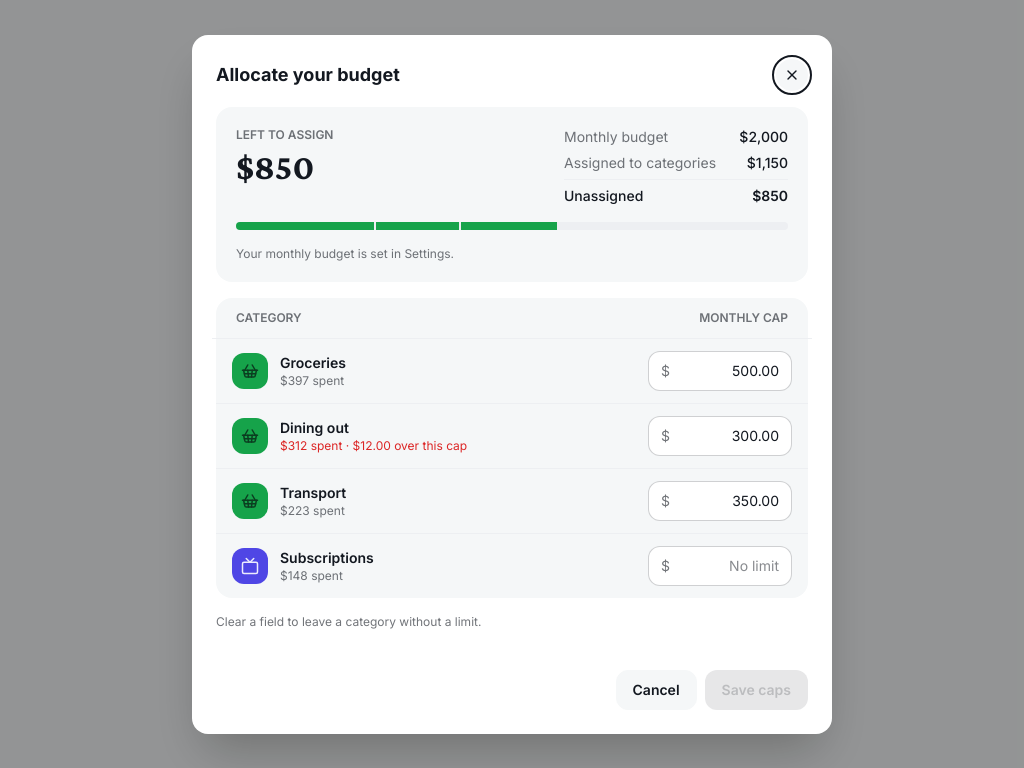
validation › clears a row’s message on the next keystroke in it
Replace the text in the field labelled "$" in the row of "Groceries" with "0" at [728, 370], box [678, 352, 779, 390]
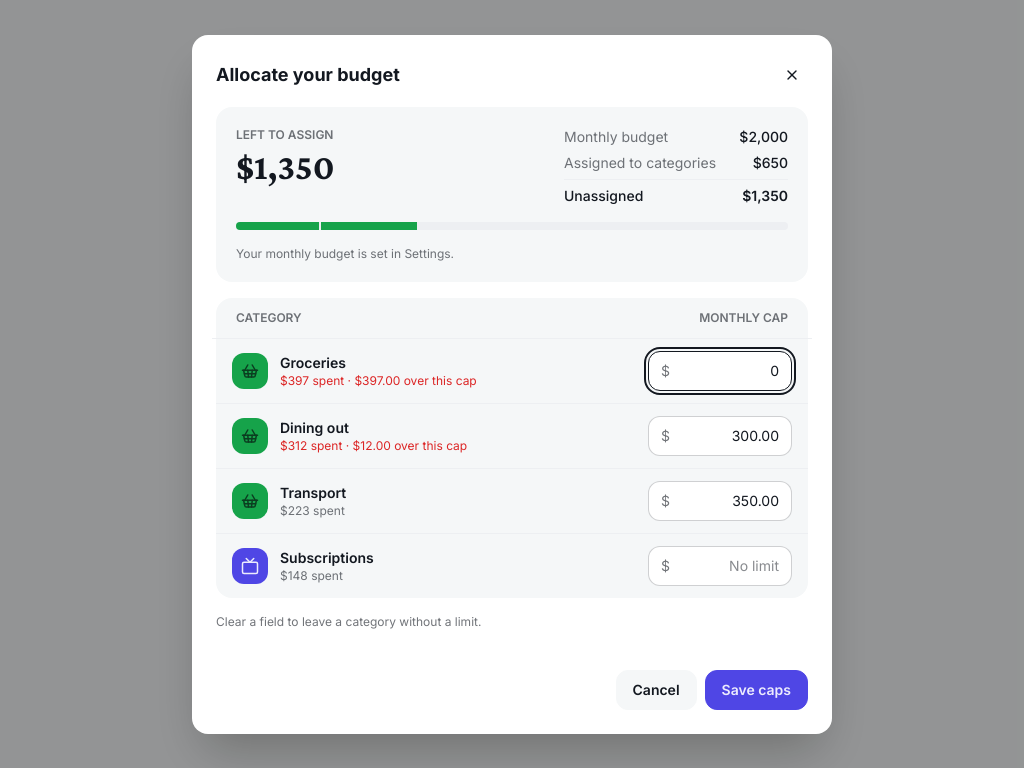
Click the button "Save caps" at [756, 690], box [705, 670, 808, 710]
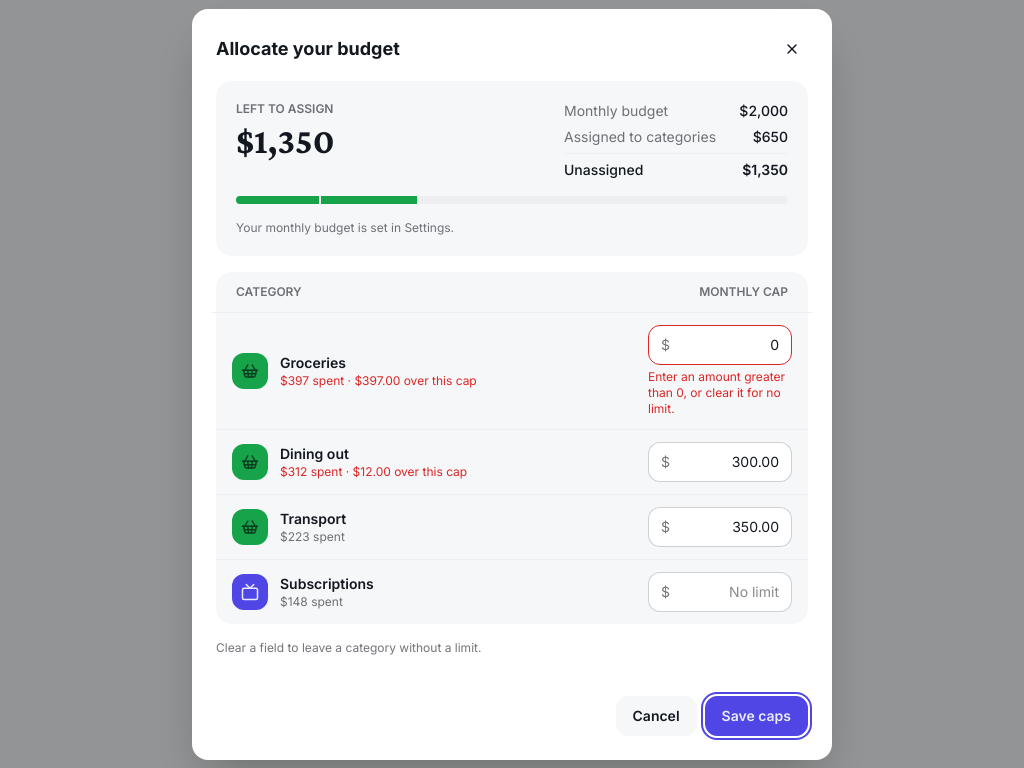
Type "5" into the field labelled "$" in the row of "Groceries" at [728, 344], box [678, 326, 779, 364]
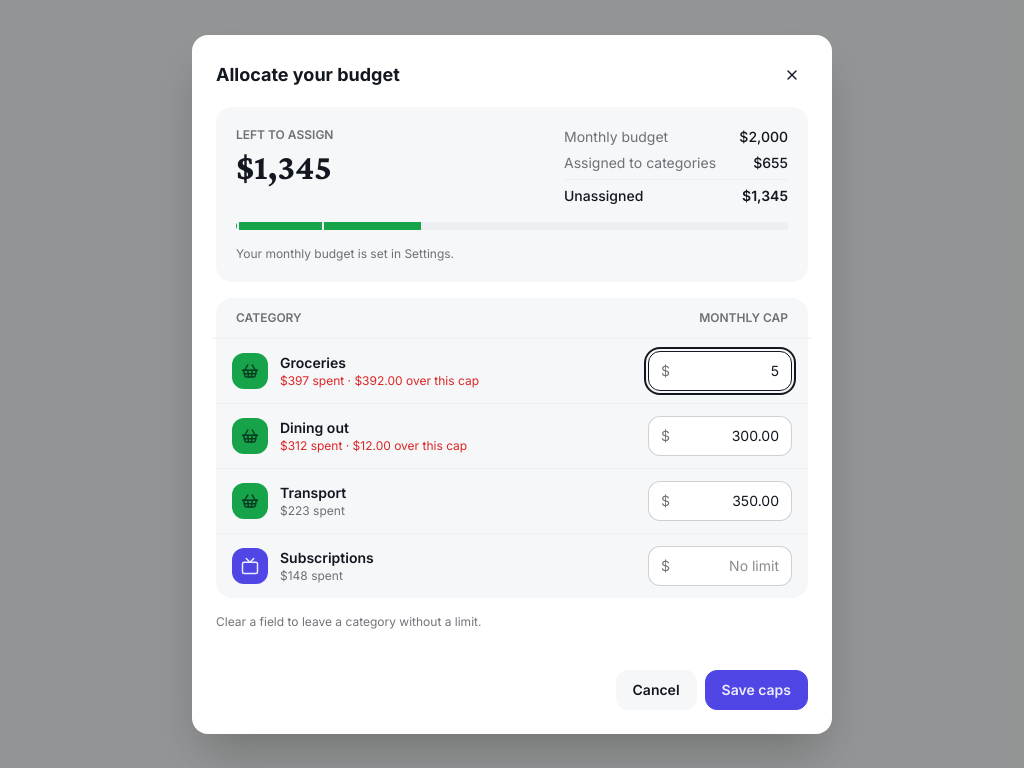
Result: the text "greater than 0" is gone
